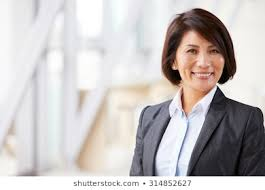asian_female: (161, 22, 232, 98)
